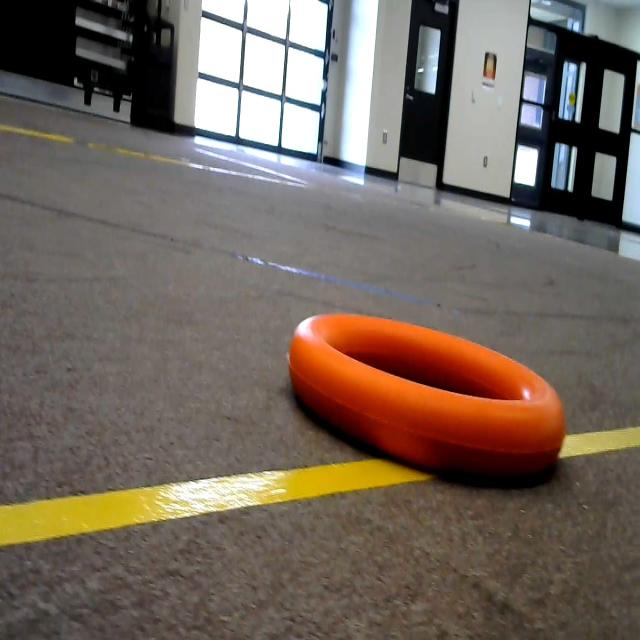note: (275, 286, 585, 507)
